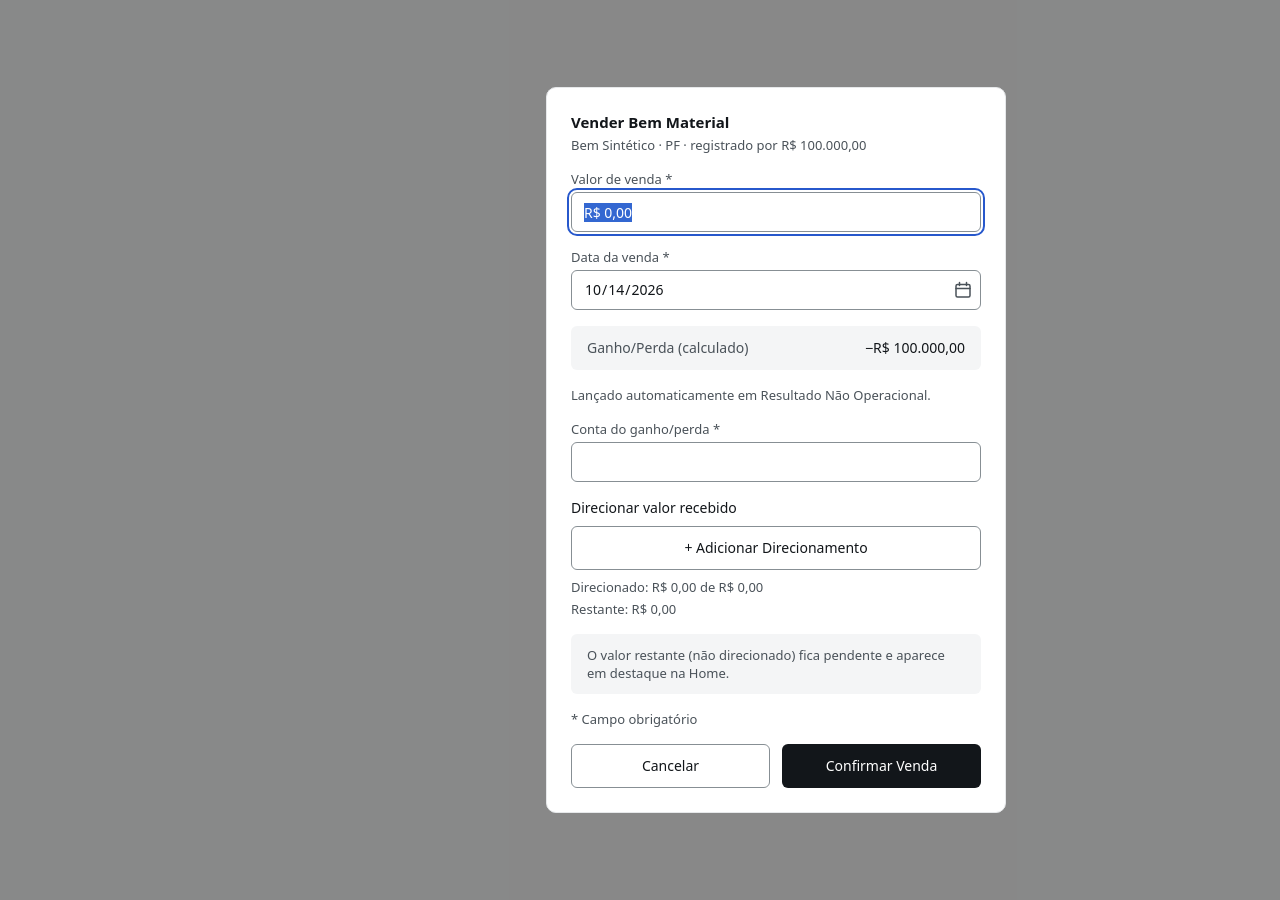
Test case: Vender Bem Material — criar o destino do Direcionamento (Figma 103:21) › Figma 103:46 — o rodapé do sub-formulário conclui em "Direcionar", não "Adicionar"
Click the button "+ Adicionar Direcionamento" at (776, 548), box [571, 526, 981, 570]
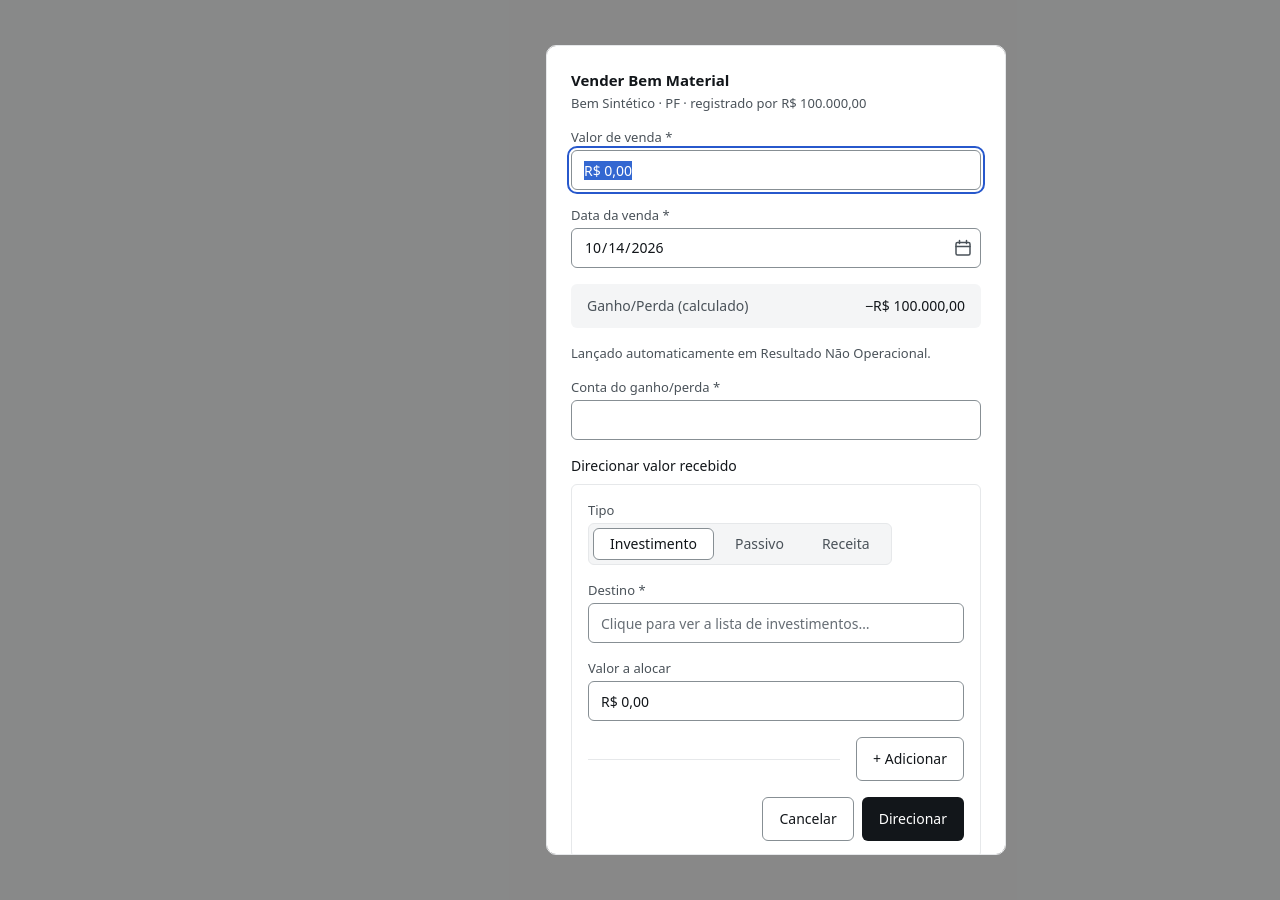
Now the button "Direcionar" is shown, box [862, 797, 964, 841]
